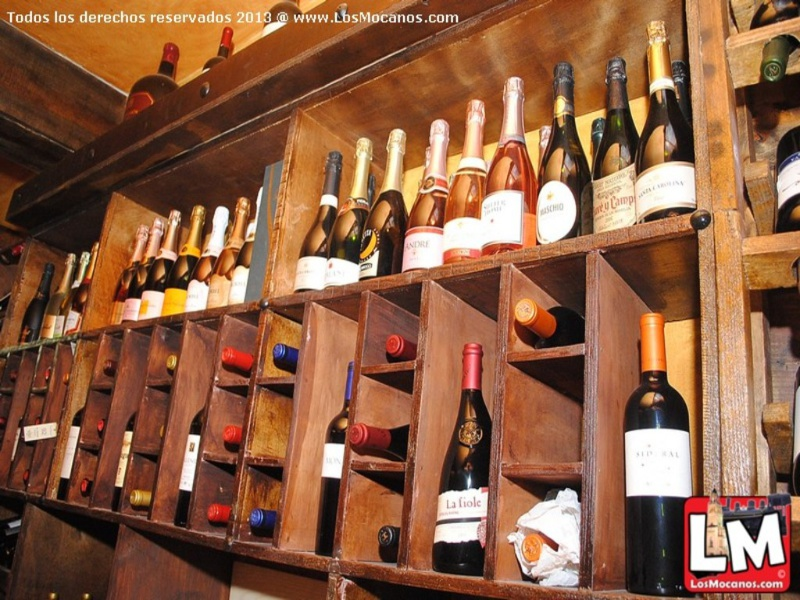wine: (14, 29, 797, 600)
